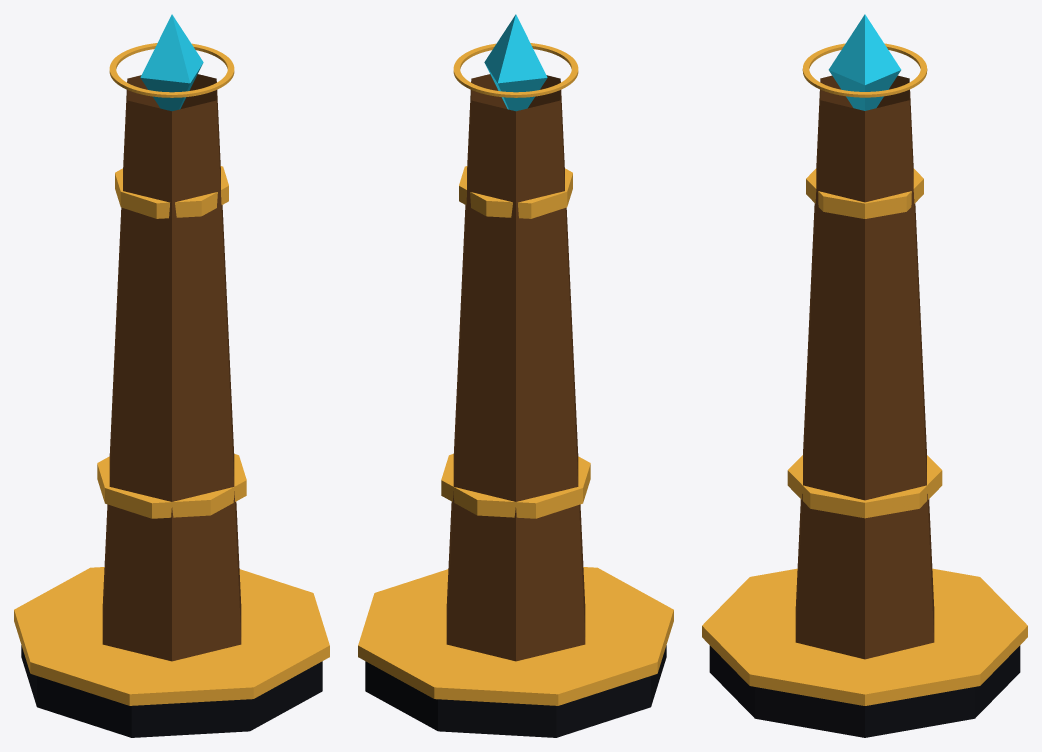
The model's file is vmt_phase_a_perimeter_pylon_active.obj.
3 views of the same model, side by side, from view 1: azimuth 30°, elevation 25°; view 2: azimuth 150°, elevation 25°; view 3: azimuth 270°, elevation 25° (orthographic).
Visible parts, largest first — view 1: VMT_PhaseA_PerimeterPylon_Active; view 2: VMT_PhaseA_PerimeterPylon_Active; view 3: VMT_PhaseA_PerimeterPylon_Active.
Part boxes in pixels (bbox=[...]): VMT_PhaseA_PerimeterPylon_Active: bbox=[14, 14, 329, 737]; VMT_PhaseA_PerimeterPylon_Active: bbox=[358, 14, 673, 737]; VMT_PhaseA_PerimeterPylon_Active: bbox=[702, 14, 1027, 737].
Bounding box in the file's own units: 3.04 × 6.78 × 3.04.
